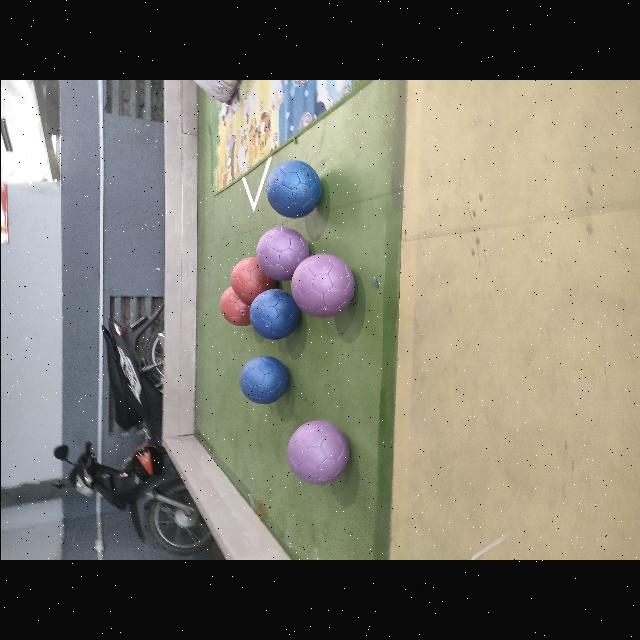B: (266, 160, 320, 218), (249, 288, 299, 339), (239, 356, 287, 404)
P: (290, 254, 352, 318), (286, 421, 348, 484), (254, 225, 310, 281)
R: (230, 257, 276, 305), (217, 286, 257, 328)
